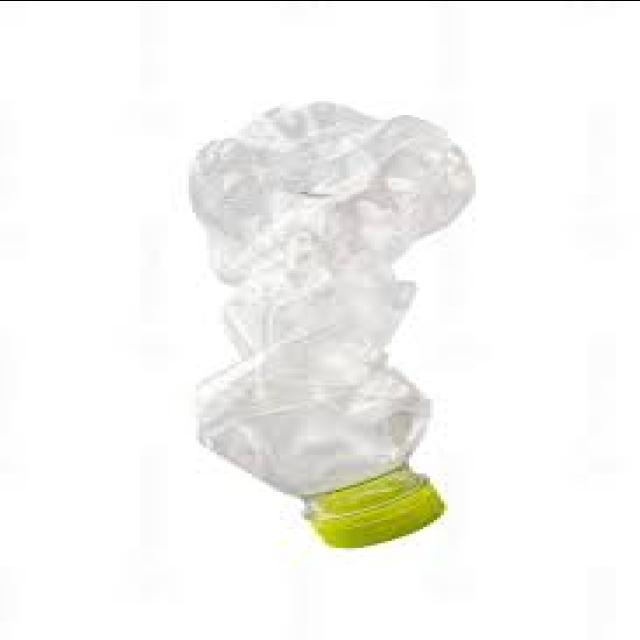寶特瓶: (170, 106, 486, 544)
